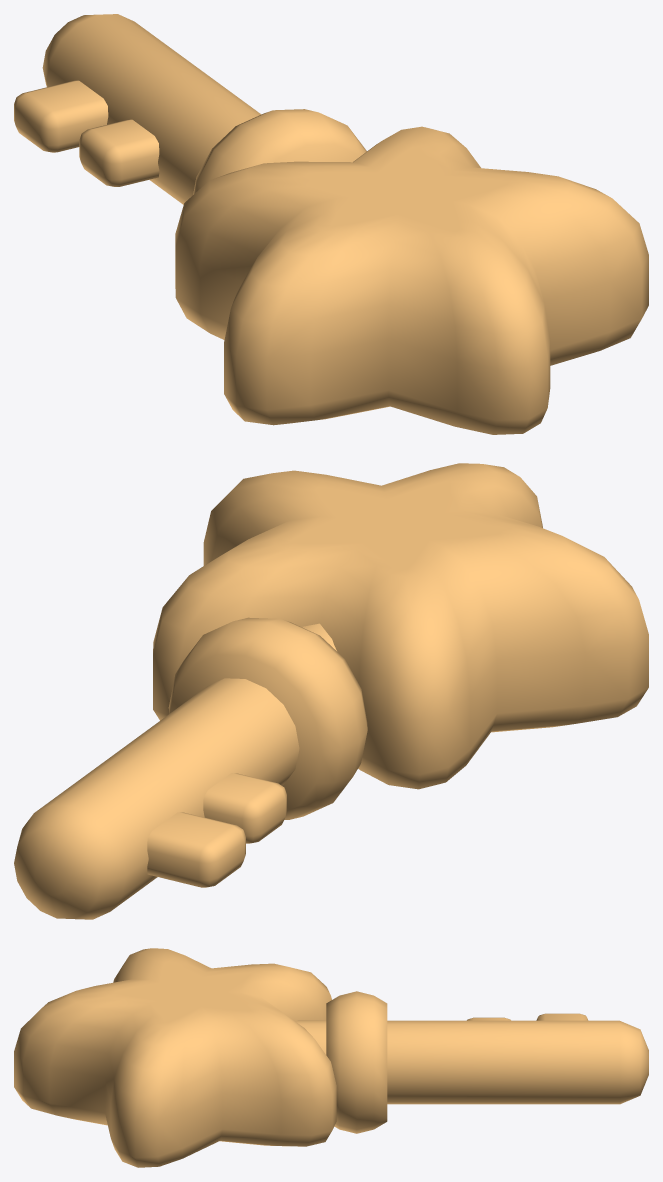
Rendered from Key.fbx.
The picture shows the model from 3 angles, top to bottom: view 1: azimuth 30°, elevation 25°; view 2: azimuth 150°, elevation 25°; view 3: azimuth 270°, elevation 25°; orthographic projection. The views are drawn at different scales.
Visible parts, largest first — view 1: Key; view 2: Key; view 3: Key.
Boxes of the visible parts, bbox=[...] form: Key: bbox=[14, 14, 648, 434]; Key: bbox=[14, 463, 648, 919]; Key: bbox=[14, 948, 648, 1167].
Bounding box in the file's own units: 0.1328 × 0.0592 × 0.252.
